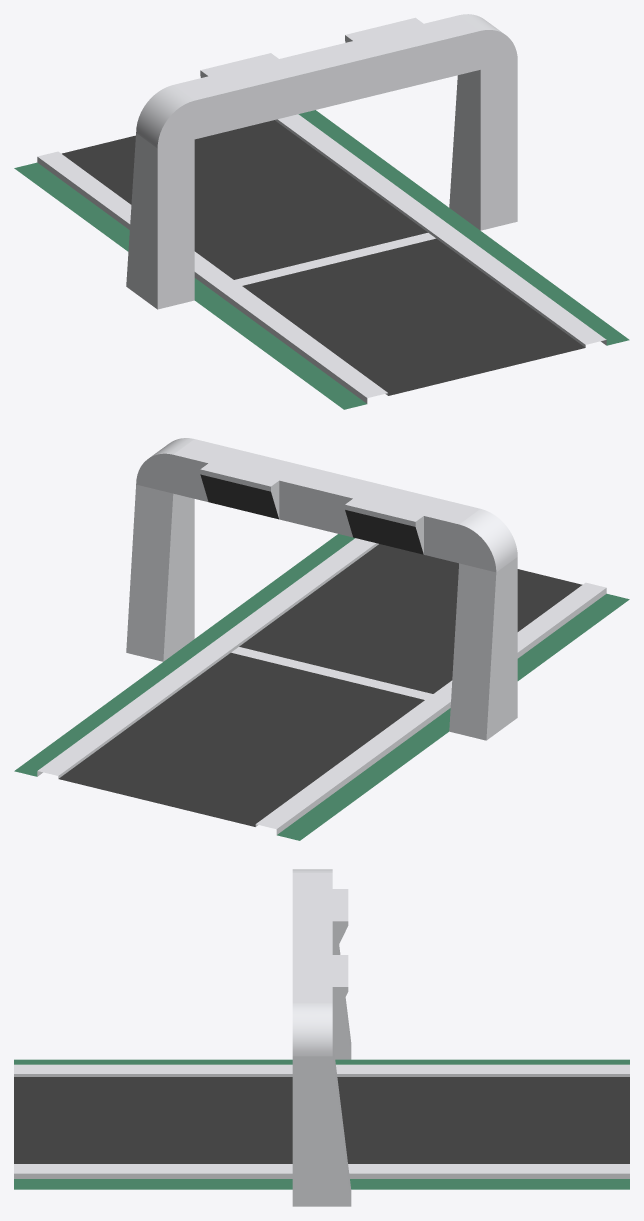
File: roadStart.obj
3 views of the same model, one above another, from view 1: azimuth 30°, elevation 25°; view 2: azimuth 150°, elevation 25°; view 3: azimuth 270°, elevation 25° (orthographic). The views are drawn at different scales.
Parts seen in each view (by area): view 1: roadStart; view 2: roadStart; view 3: roadStart.
Boxes of the visible parts, box(x1,y1,x2,y2) form: roadStart: box(14, 14, 629, 409); roadStart: box(14, 438, 629, 840); roadStart: box(14, 869, 629, 1206).
Size of the model in its own units: 1.26 by 0.6682 by 2.
